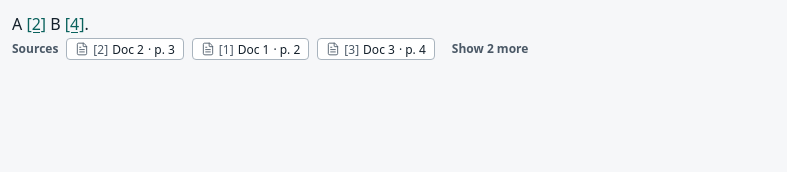
Scenario: Answer › Sources line › a hidden source's marker expands the line and opens it
Click the button named "Source 4: Doc 4, p. 5" at x=75, y=25, box [65,12,84,38]
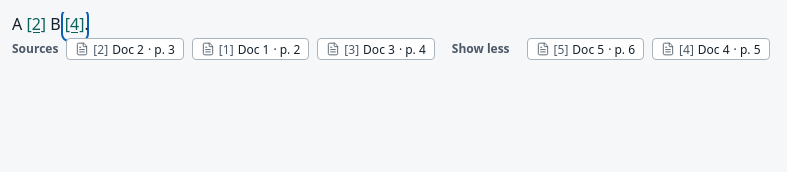
Expected: the button "Show less" is shown, [443,38,519,62]
